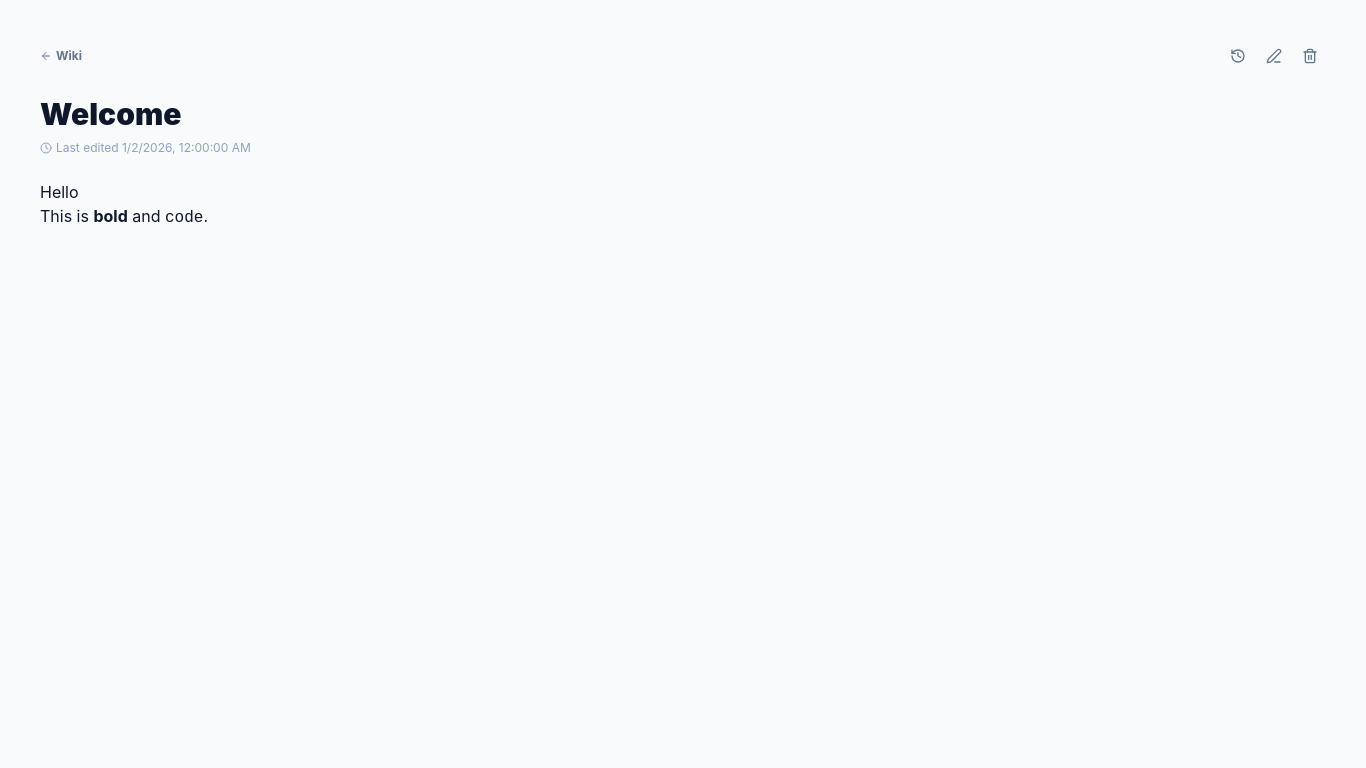
it: WikiPageView › opens the history drawer and lists versions
Expected: the heading "Welcome" is shown, [40,96,181,132]
Click the button with test id "wiki-history-toggle" at coordinates (1238, 56), box [1222,40,1254,72]
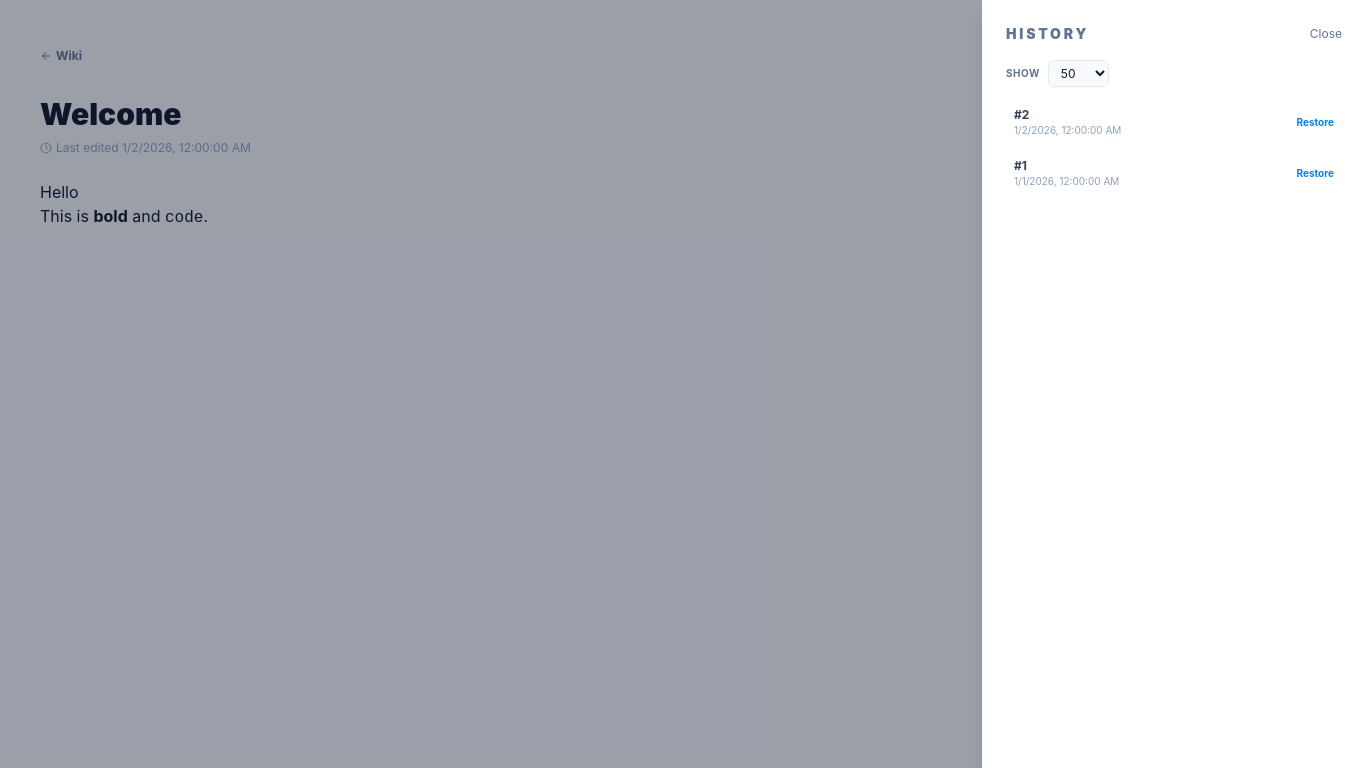
Result: the number of buttons with test id "wiki-history-restore" is 2 at [1296,115,1334,130]; [1296,166,1334,181]
Result: the dropdown with test id "wiki-history-limit" shows "50" at [1048,60,1109,87]
